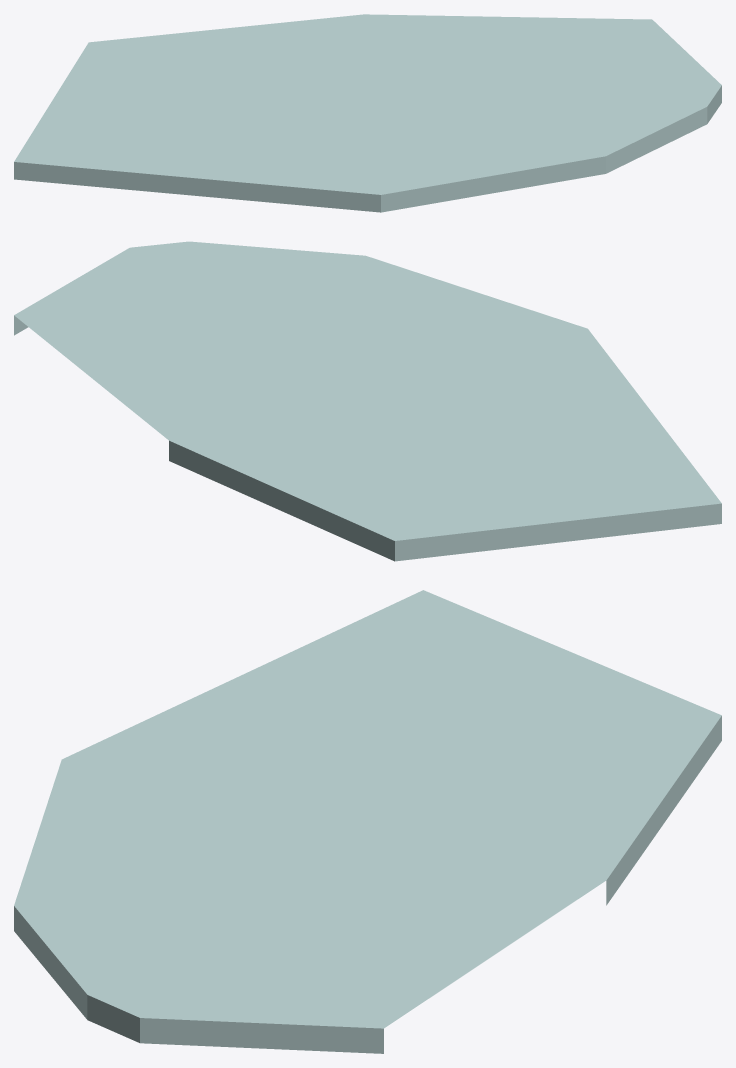
Rendered from TP_Ground03.fbx.
3 renders of one model, top to bottom at view 1: azimuth 30°, elevation 25°; view 2: azimuth 150°, elevation 25°; view 3: azimuth 270°, elevation 25°, orthographic. The views are drawn at different scales.
Parts seen in each view (by area): view 1: TP_Ground03; view 2: TP_Ground03; view 3: TP_Ground03.
Boxes of the visible parts, <box> form: TP_Ground03: <box>14,14,721,212</box>; TP_Ground03: <box>14,241,721,561</box>; TP_Ground03: <box>14,590,721,1053</box>.
Size of the model in its own units: 585 by 15.76 by 399.
Materials: 1 (1 with a texture image).
